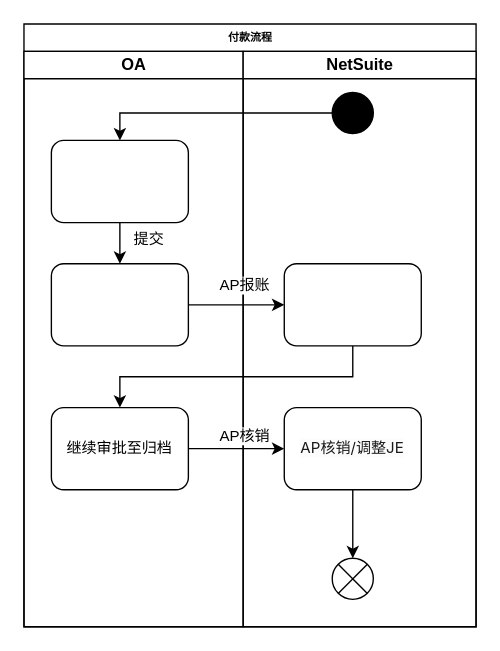
Image size: 500x651. Some labels were removed from this diagram. The shapes that lost their labels are listed below. From the top down, each one's centre as x and y in pixels, then its label:
At [119,181]: "创建流程".
At [119,304]: "审批至出纳节点".
At [352,304]: "AP处理/生成JE".
